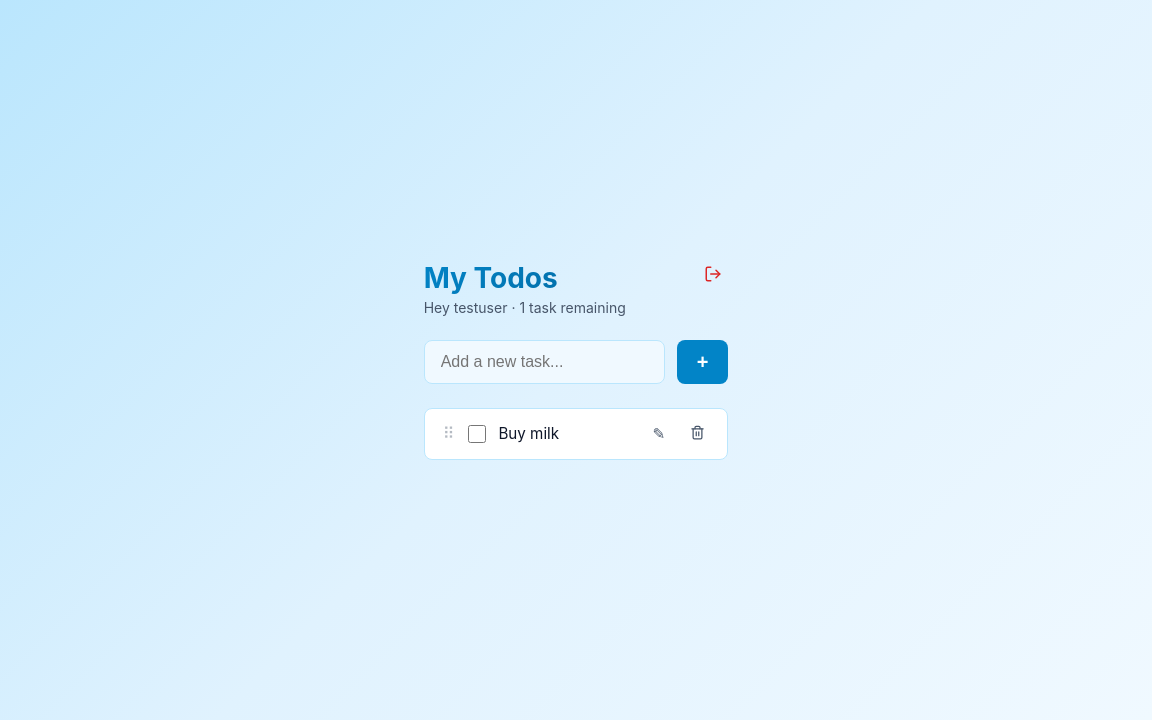
Home page › clicking Edit enters edit mode showing an input
Click the button titled "Edit".
click(659, 434)  # box [646,420,672,446]
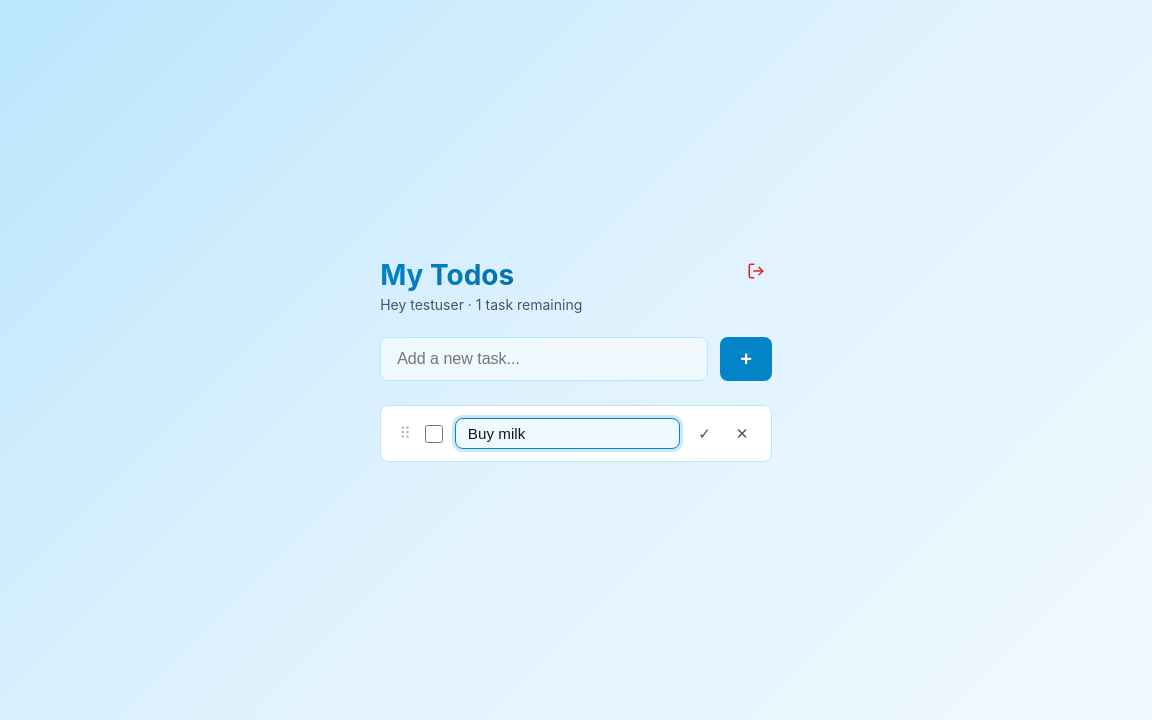
Now the field showing "Buy milk" is shown, box [455,418,680,449]
